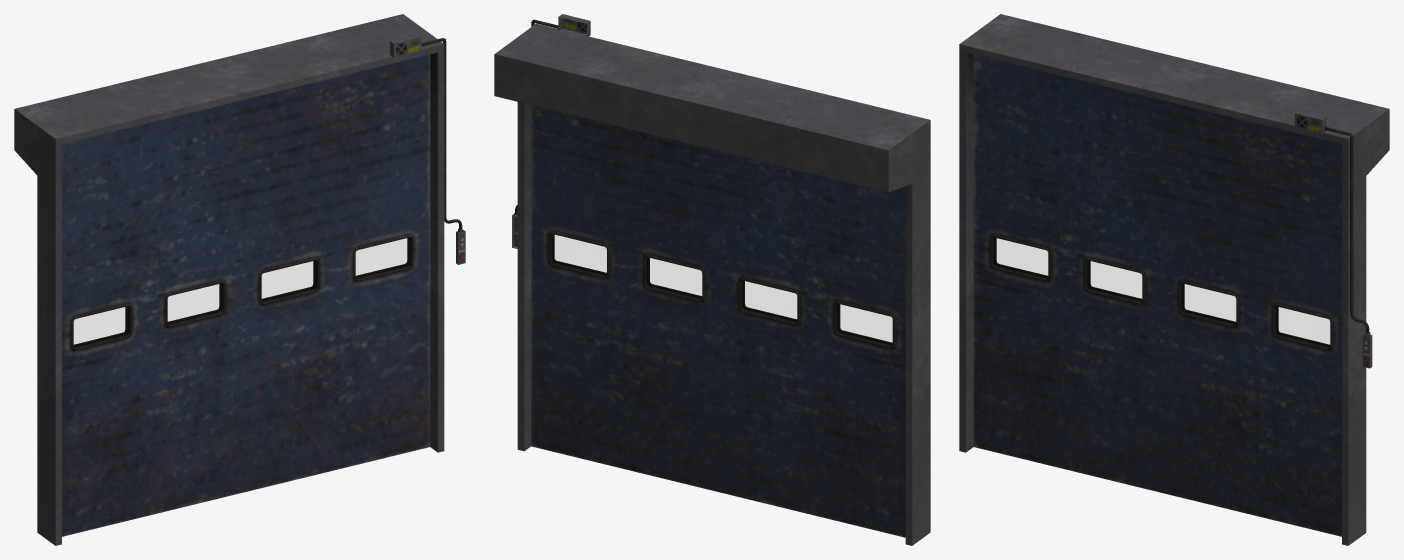
Rendered from Rollup Door 8.glb.
3 renders of one model, left to right at view 1: azimuth 30°, elevation 25°; view 2: azimuth 150°, elevation 25°; view 3: azimuth 330°, elevation 25°, orthographic.
Parts seen in each view (by area): view 1: Rollup_Door_8_Door, Rollup_Door_8_Door_Frame, Rollup_Door_8_Control_Switch; view 2: Rollup_Door_8_Door, Rollup_Door_8_Door_Frame, Rollup_Door_8_Control_Switch; view 3: Rollup_Door_8_Door, Rollup_Door_8_Door_Frame, Rollup_Door_8_Control_Switch.
Part boxes in pixels (x1=…): Rollup_Door_8_Door: x1=62, y1=54, x2=430, y2=536; Rollup_Door_8_Door_Frame: x1=14, y1=14, x2=444, y2=545; Rollup_Door_8_Control_Switch: x1=390, y1=34, x2=465, y2=264; Rollup_Door_8_Door: x1=531, y1=105, x2=905, y2=537; Rollup_Door_8_Door_Frame: x1=494, y1=23, x2=930, y2=545; Rollup_Door_8_Control_Switch: x1=512, y1=14, x2=590, y2=248; Rollup_Door_8_Door: x1=973, y1=54, x2=1341, y2=536; Rollup_Door_8_Door_Frame: x1=959, y1=14, x2=1389, y2=545; Rollup_Door_8_Control_Switch: x1=1294, y1=110, x2=1372, y2=368.
Bounding box in the file's own units: 3.17 × 3.1 × 0.5721.
Materials: 2 (2 with a texture image).
